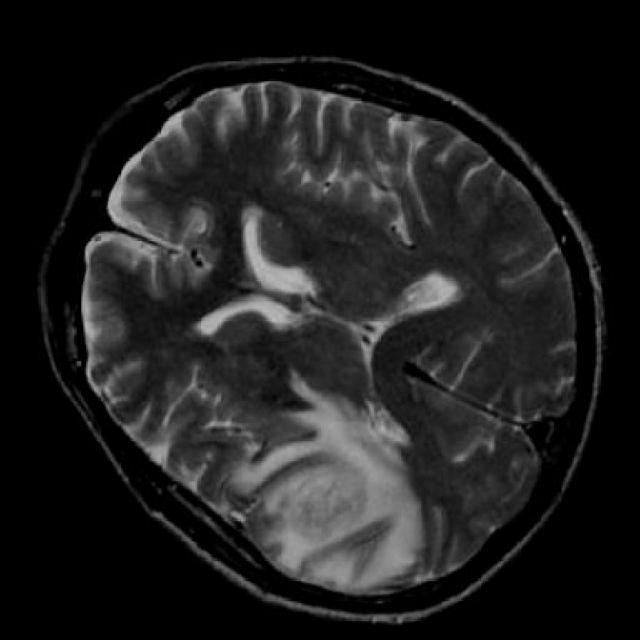Brain-Tumor: (225, 353, 461, 604)
